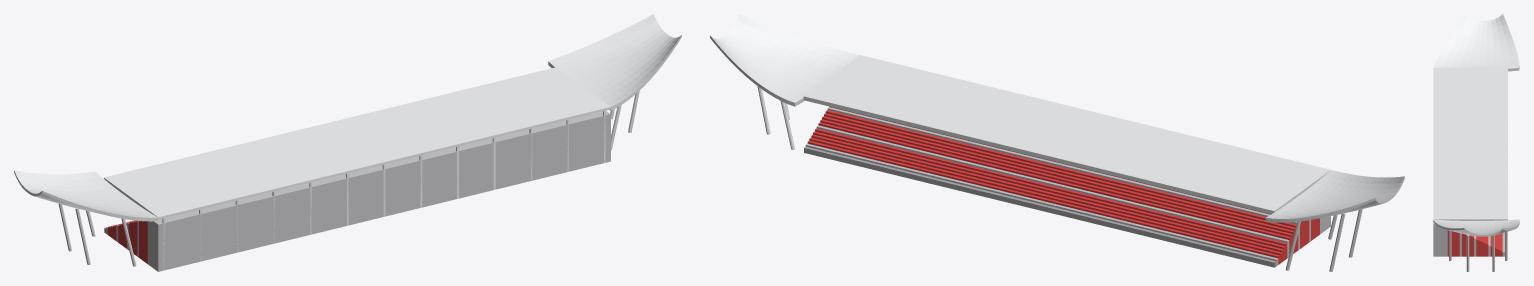
File: shanghai_grandstand.glb
3 views of the same model, side by side, from view 1: azimuth 30°, elevation 25°; view 2: azimuth 150°, elevation 25°; view 3: azimuth 270°, elevation 25° (orthographic). The views are drawn at different scales.
Visible parts, largest first — view 1: stand, wing_R, wing_L; view 2: stand, wing_R, wing_L; view 3: stand, wing_L, wing_R.
Part boxes in pixels (left/top/right/bottom): stand: left=104, top=67, right=610, bottom=271; wing_R: left=548, top=14, right=681, bottom=150; wing_L: left=14, top=170, right=158, bottom=266; stand: left=803, top=55, right=1330, bottom=267; wing_R: left=710, top=14, right=859, bottom=149; wing_L: left=1265, top=170, right=1404, bottom=271; stand: left=1433, top=68, right=1507, bottom=256; wing_L: left=1433, top=14, right=1519, bottom=71; wing_R: left=1433, top=219, right=1519, bottom=271.
Bounding box in the file's own units: 424 × 55.5 × 72.05.
